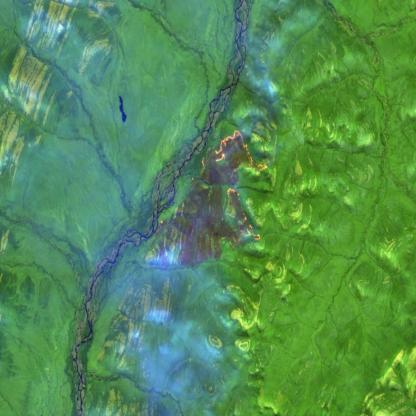fire: (200, 127, 270, 244)
